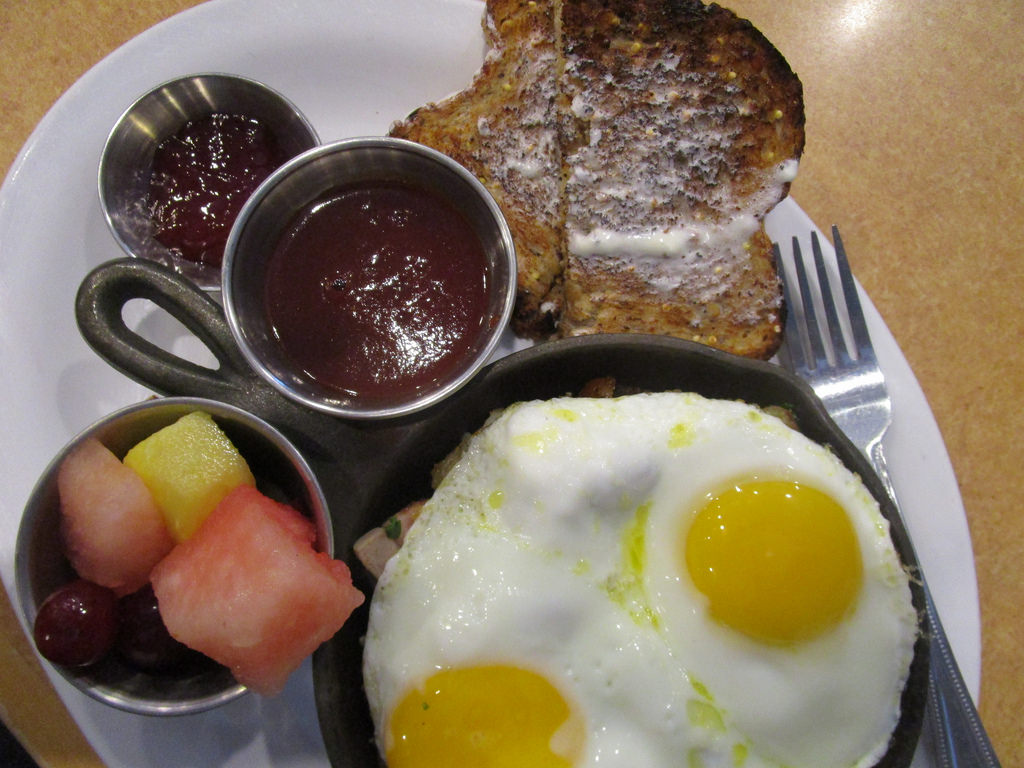fried egg: (557, 395, 917, 765), (358, 415, 632, 768)
slice of bread: (399, 1, 810, 352)
